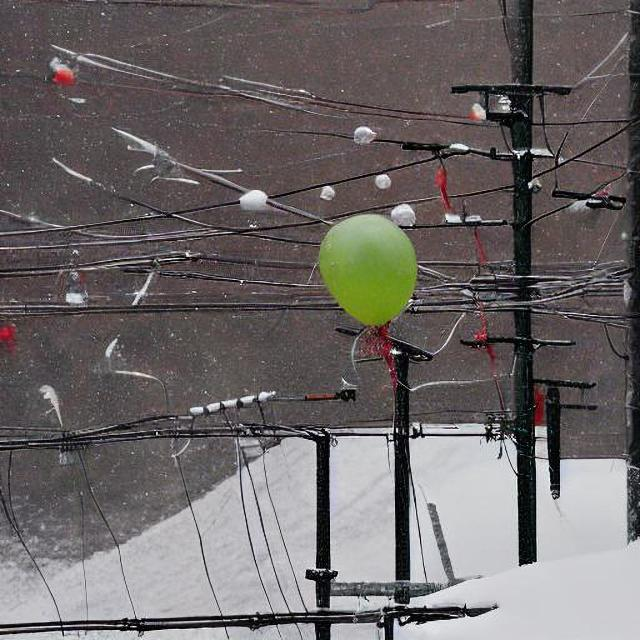balloon: (311, 207, 420, 338)
floating object: (435, 159, 454, 215), (45, 58, 78, 88)
